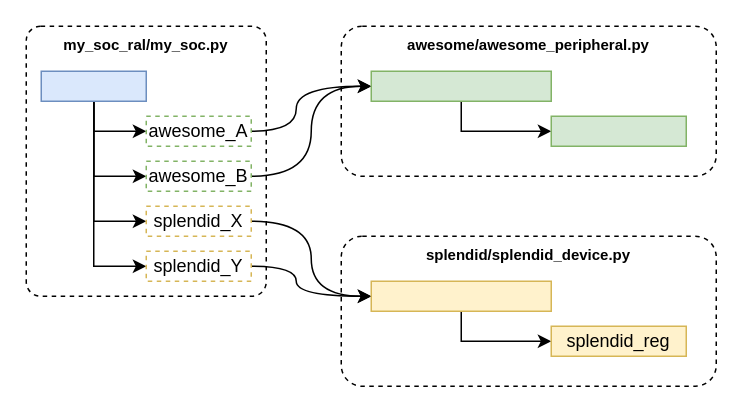
The diagram is 743 pixels wide and 413 high, and some of its shapes have lost their labels. Each missing label, with the centre of its shape:
awesome_peripheral: the point at 460,85
awesome_reg: the point at 618,130
my_soc: the point at 93,85
splendid_device: the point at 460,295
